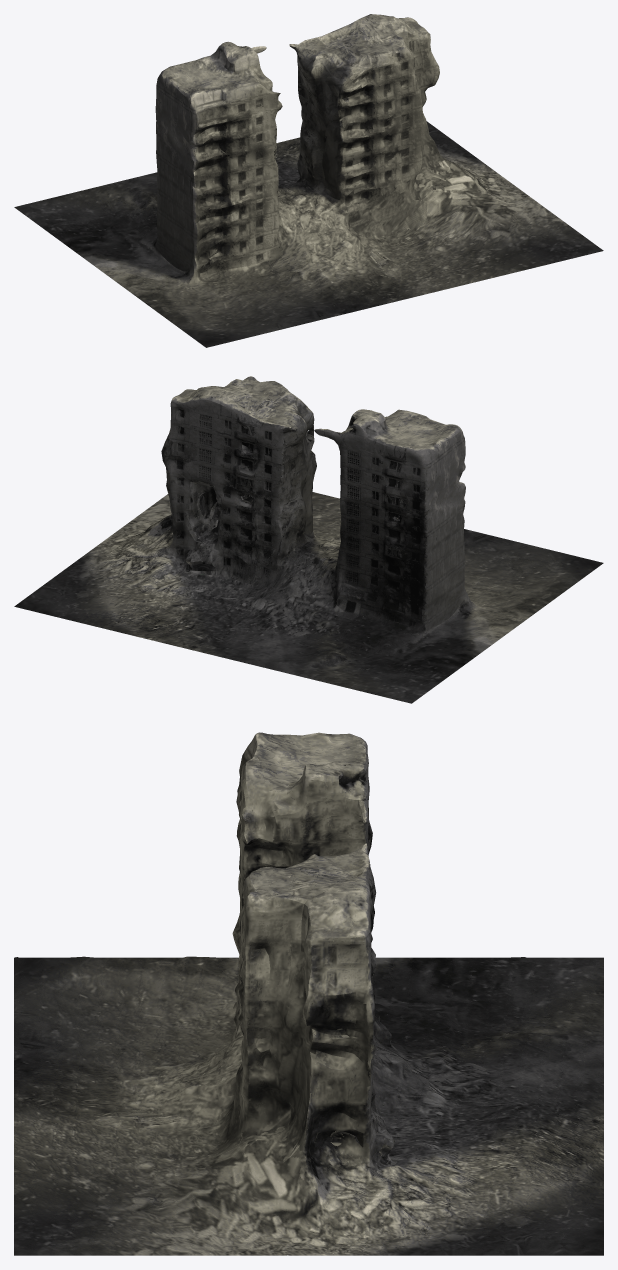
File: house_1-withoutnormal.gltf
The picture shows the model from 3 angles, top to bottom: view 1: azimuth 30°, elevation 25°; view 2: azimuth 150°, elevation 25°; view 3: azimuth 270°, elevation 25°; orthographic projection. The views are drawn at different scales.
Visible parts, largest first — view 1: Remesh Color Centered - 1; view 2: Remesh Color Centered - 1; view 3: Remesh Color Centered - 1.
Part boxes in pixels (bbox=[...]): Remesh Color Centered - 1: bbox=[14, 14, 603, 347]; Remesh Color Centered - 1: bbox=[14, 376, 603, 703]; Remesh Color Centered - 1: bbox=[14, 732, 603, 1255].
Size of the model in its own units: 0.8797 by 0.4163 by 0.7365.
1 material, 1 textured.
